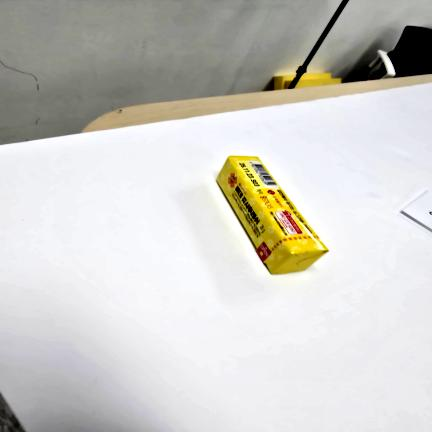gum_yellow: (217, 156, 328, 274)
